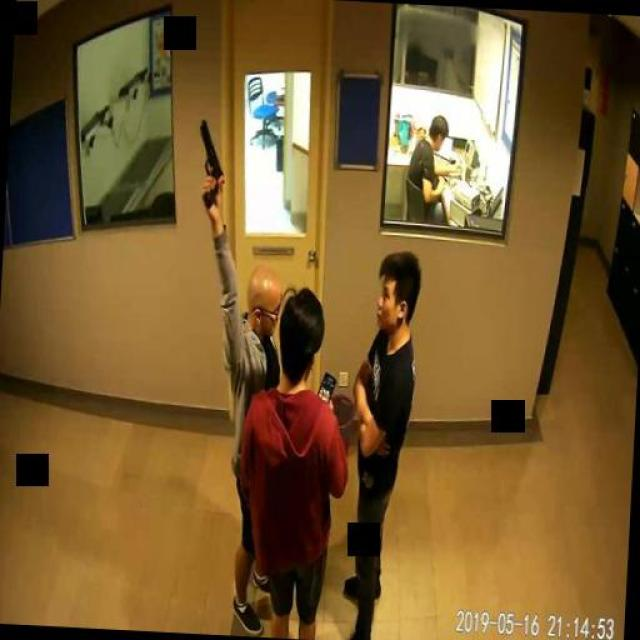gun: (196, 116, 226, 208)
